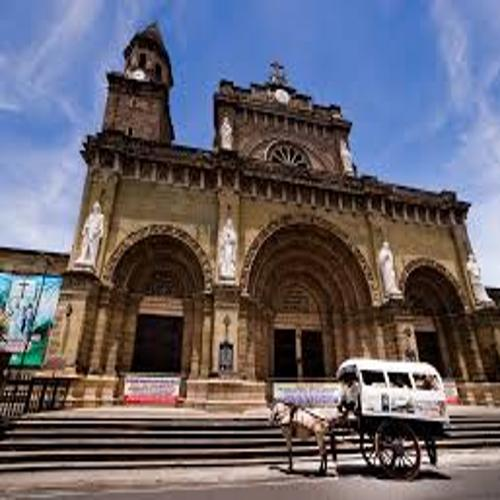Manila Cathedral Church: (29, 10, 495, 422)
